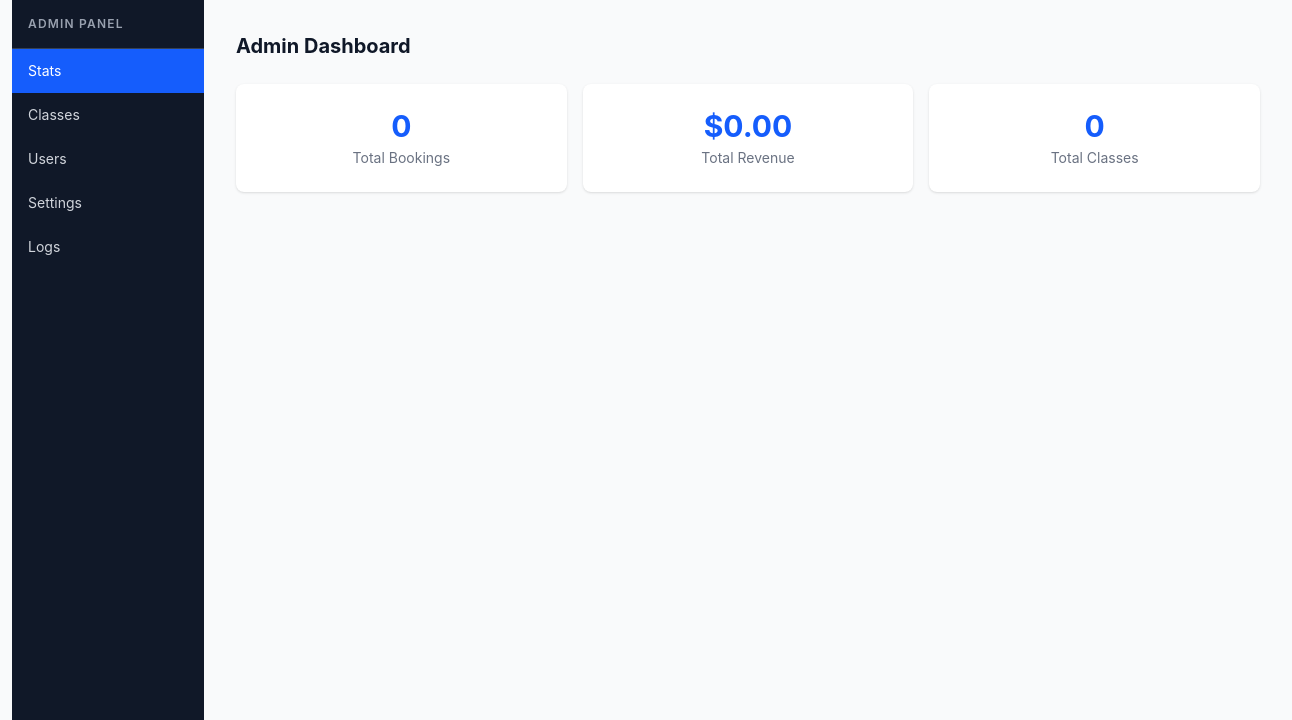
Test case: Admin Users tab – search › shows all users again when search is cleared
Click the button "Users". click: [108, 159]
box: [12,137,204,181]
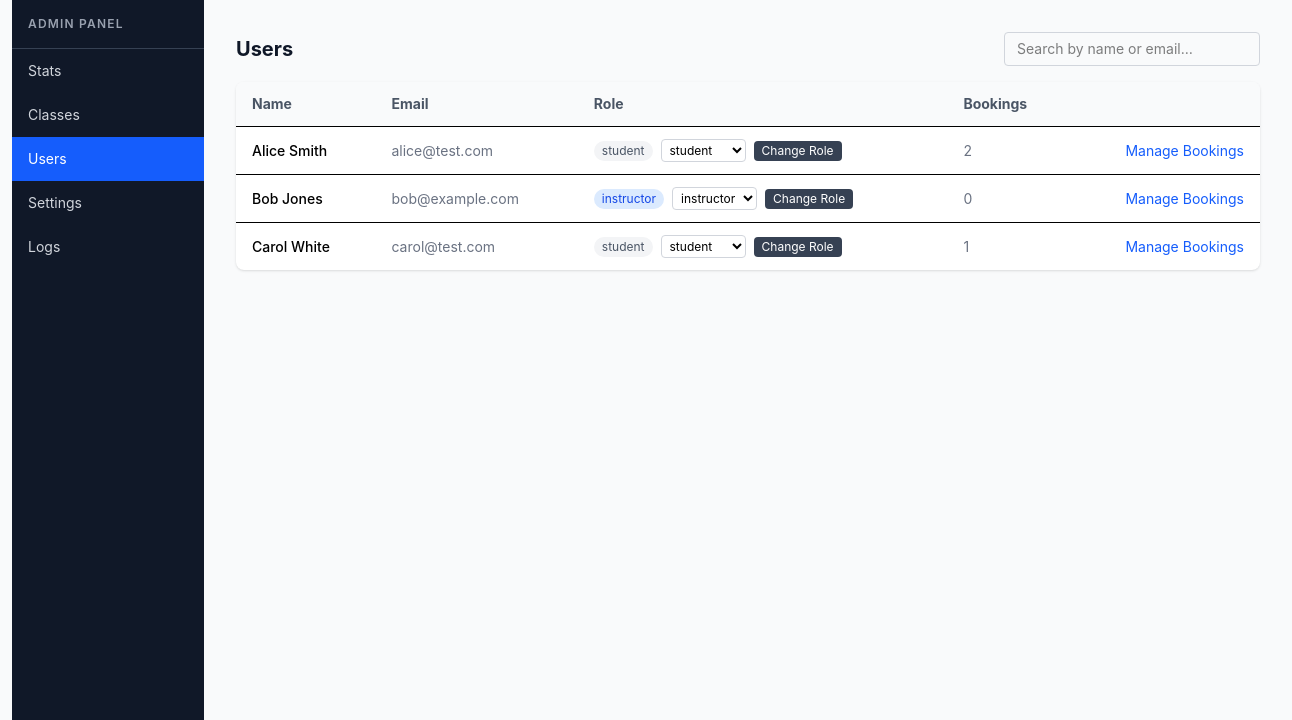
Check: the text "Alice Smith" is shown, box [236,126,376,174]
Type "alice" into the field named "search users". click: [1132, 49]
box: [1004,32,1260,66]
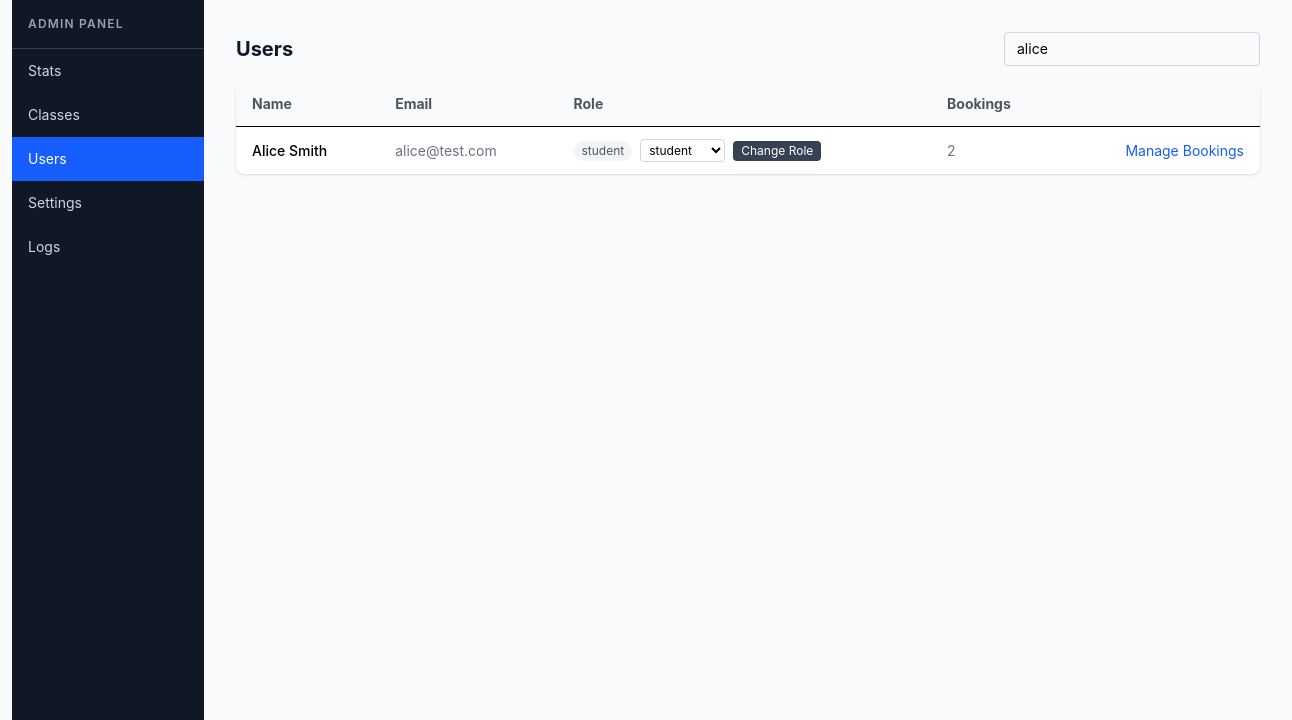
Check: the text "Bob Jones" is gone
Clear the field named "search users". click: [1132, 49]
box: [1004,32,1260,66]
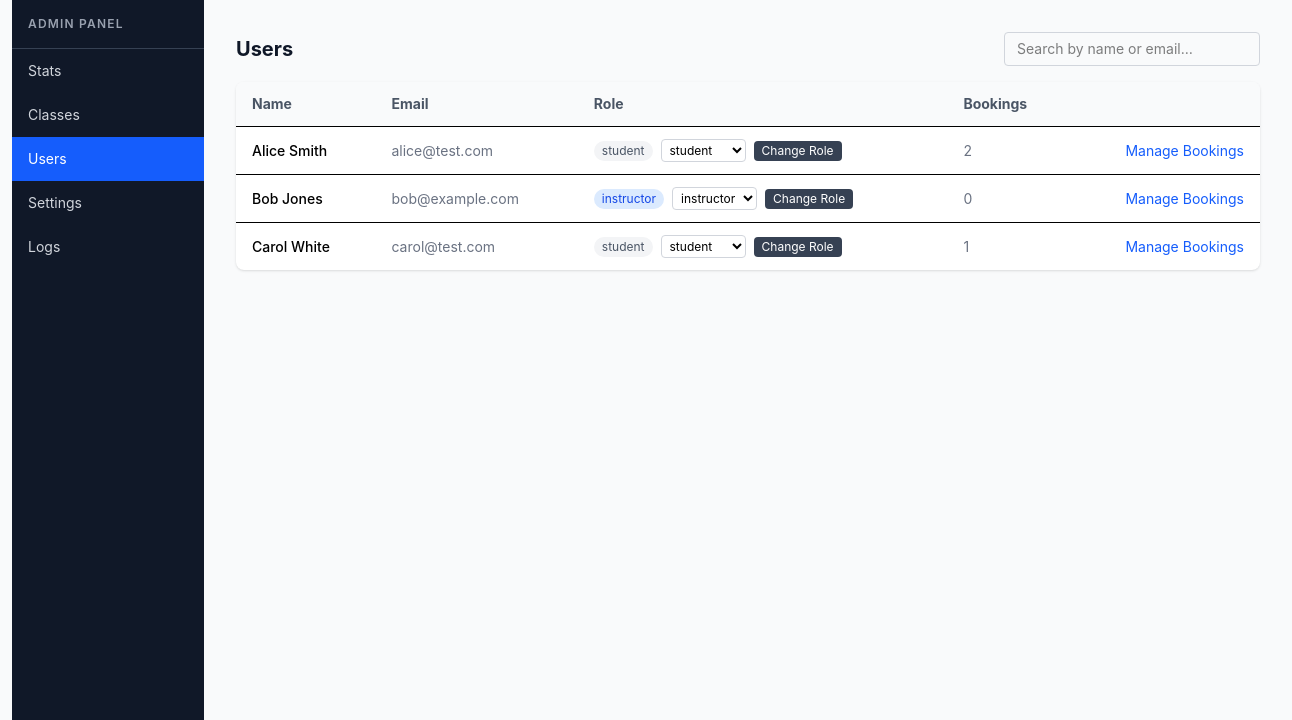
Check: the text "Bob Jones" is shown, box [236,174,376,222]
Check: the text "Carol White" is shown, box [236,222,376,270]
